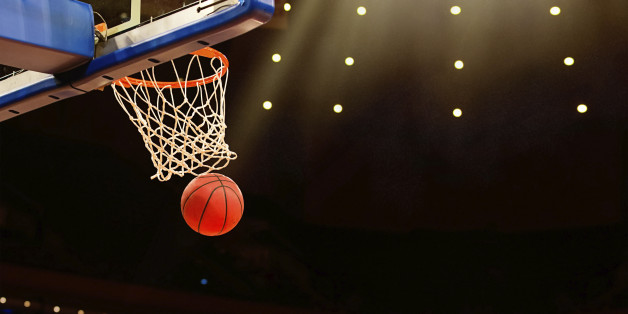basketball: (178, 171, 246, 237)
